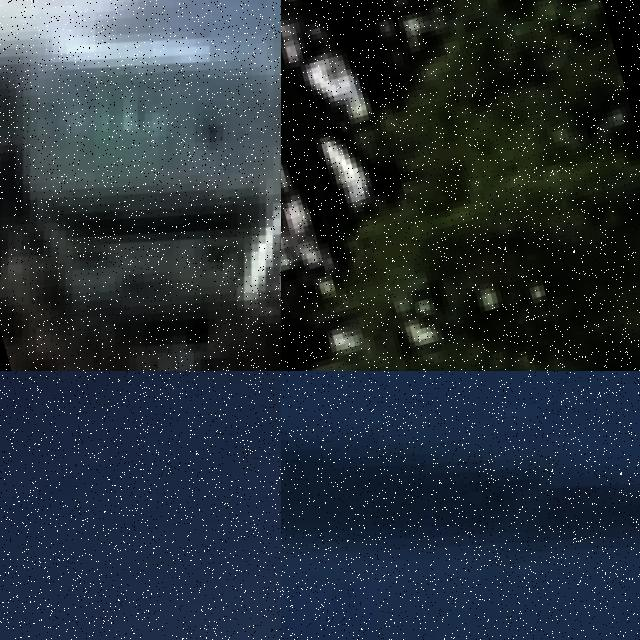0: (0, 0, 281, 371)
drone: (281, 371, 640, 640)
